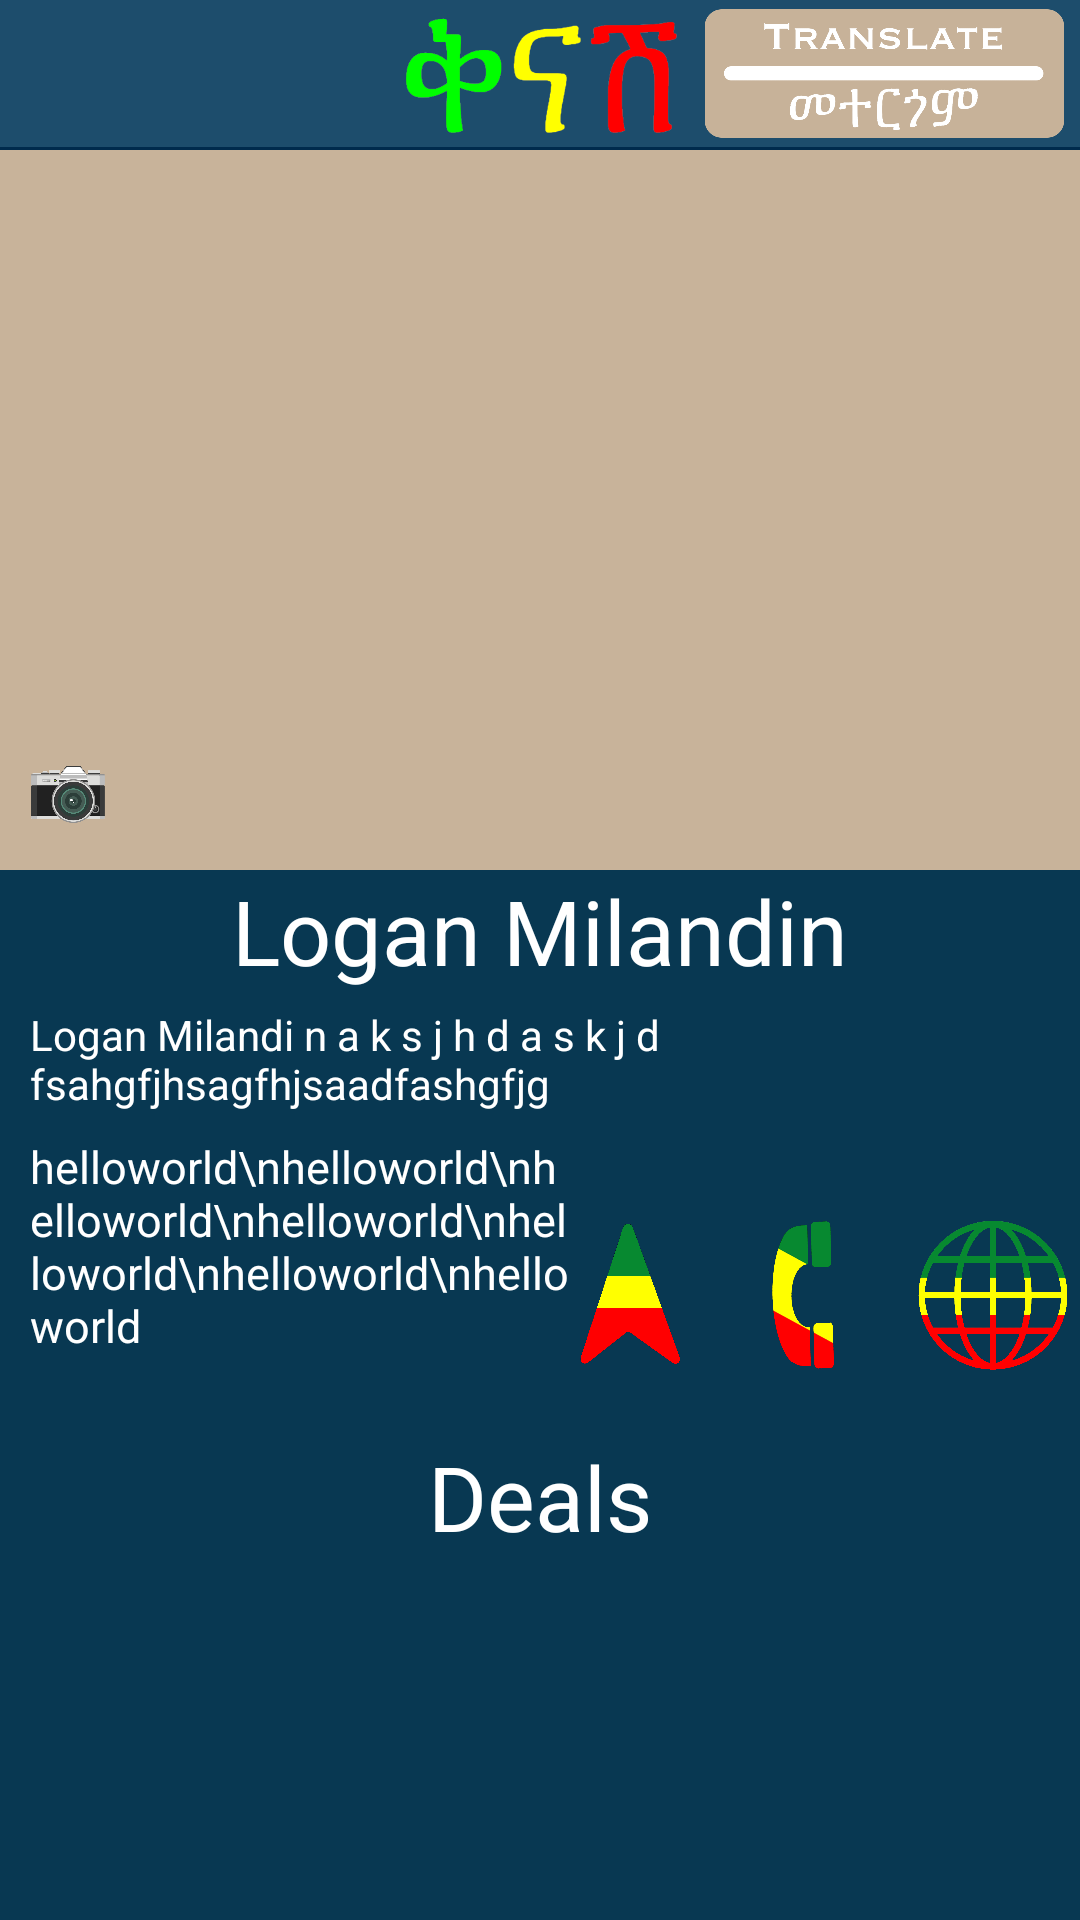

Screen size 1080 × 1920. Icon name, then its box in pixels as (x1, y1, x2, y2):
camera: (31, 766, 105, 823)
nav: (581, 1224, 680, 1364)
phone: (772, 1221, 834, 1369)
web: (918, 1221, 1067, 1370)
